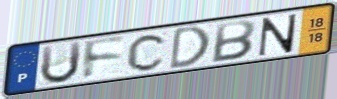B: (209, 18, 258, 64)
C: (125, 32, 170, 73)
D: (167, 23, 212, 72)
F: (82, 35, 128, 83)
N: (256, 12, 300, 58)
U: (38, 39, 84, 86)
